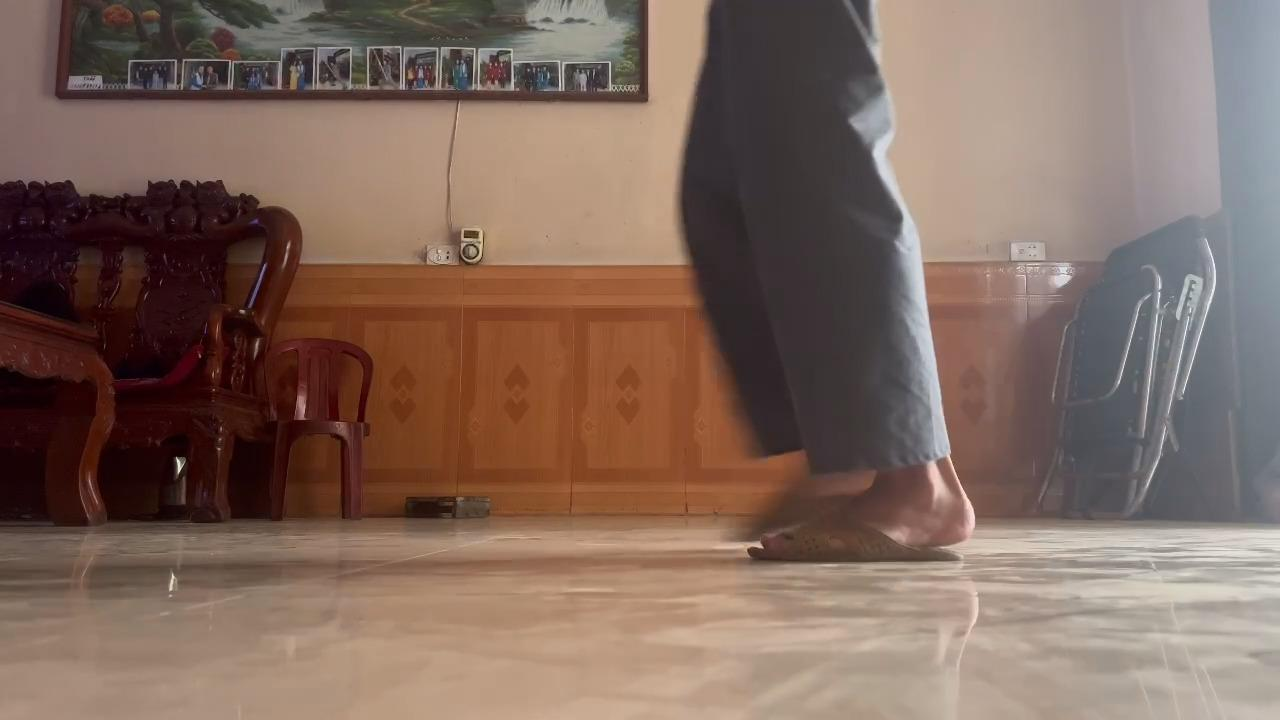no-boot: (737, 467, 982, 572)
